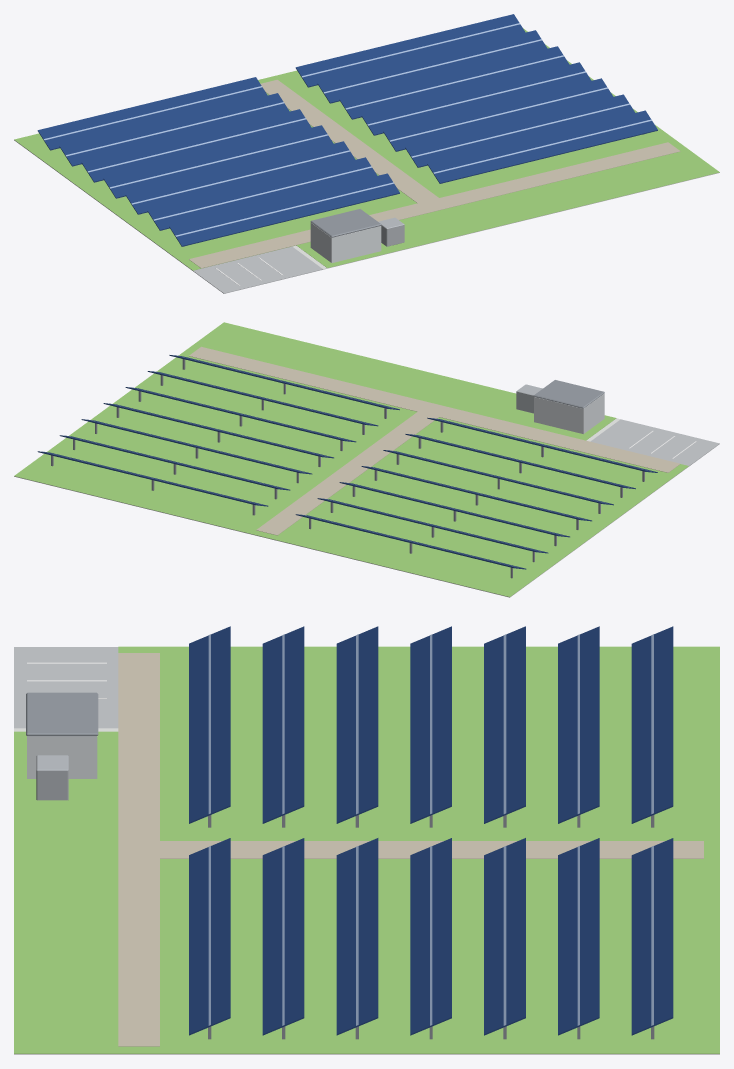
The model's file is solarfarm.glb.
The picture shows the model from 3 angles, top to bottom: view 1: azimuth 30°, elevation 25°; view 2: azimuth 150°, elevation 25°; view 3: azimuth 270°, elevation 25°; orthographic projection. The views are drawn at different scales.
Visible parts, largest first — view 1: solarfarm; view 2: solarfarm; view 3: solarfarm.
Part boxes in pixels (x1,y1,x2,y2): solarfarm: (14,14,719,293); solarfarm: (14,322,719,597); solarfarm: (14,626,719,1054).
Size of the model in its own units: 60 by 3.22 by 44.
